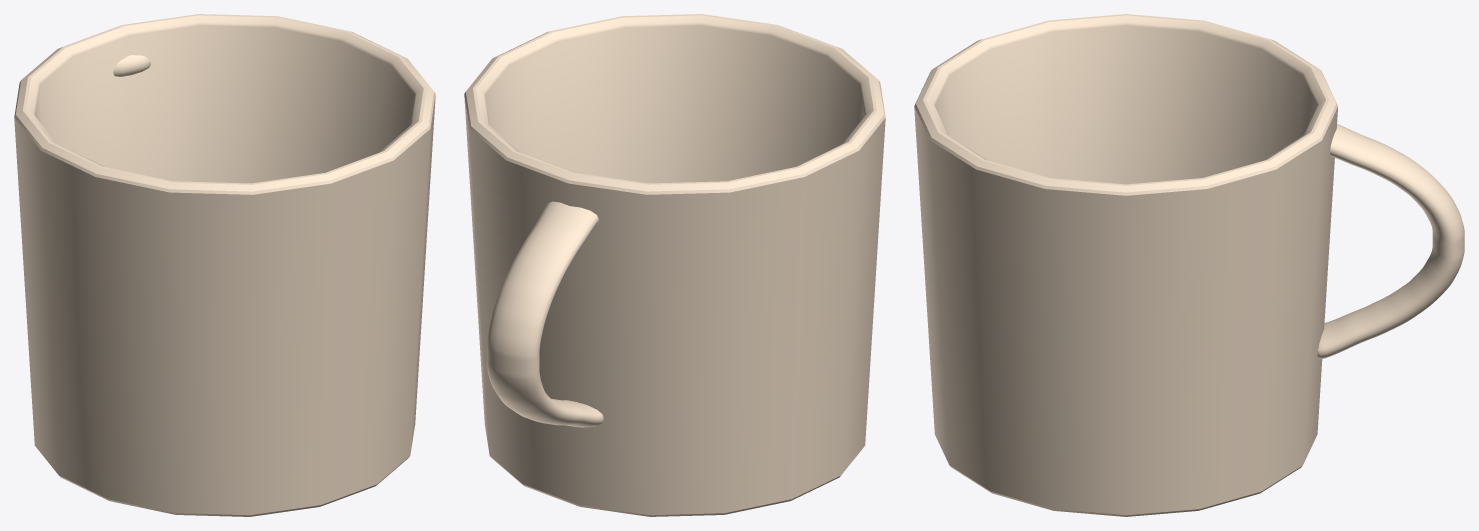
File: CoffeeMugEmpty.fbx
3 views of the same model, side by side, from view 1: azimuth 30°, elevation 25°; view 2: azimuth 150°, elevation 25°; view 3: azimuth 270°, elevation 25° (orthographic).
Visible parts, largest first — view 1: MugEmpty.001; view 2: MugEmpty.001; view 3: MugEmpty.001.
Boxes of the visible parts, x1,y1,x2,y2 form: MugEmpty.001: (14,14,435,516); MugEmpty.001: (464,14,885,516); MugEmpty.001: (914,14,1464,516).
Size of the model in its own units: 88.67 by 80.14 by 115.
